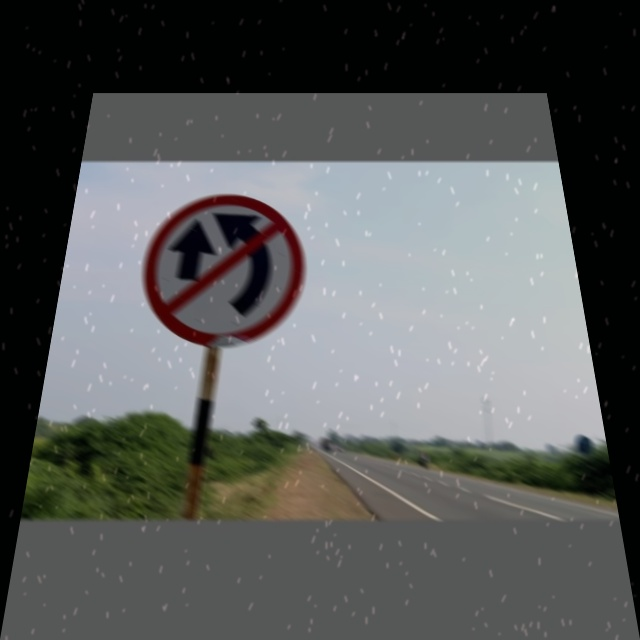Overtaking_Prohibited: (136, 194, 303, 348)
